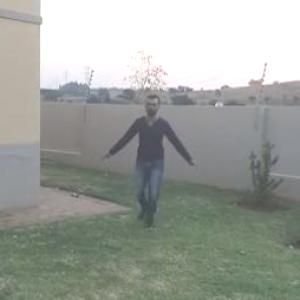land: (100, 91, 200, 231)
